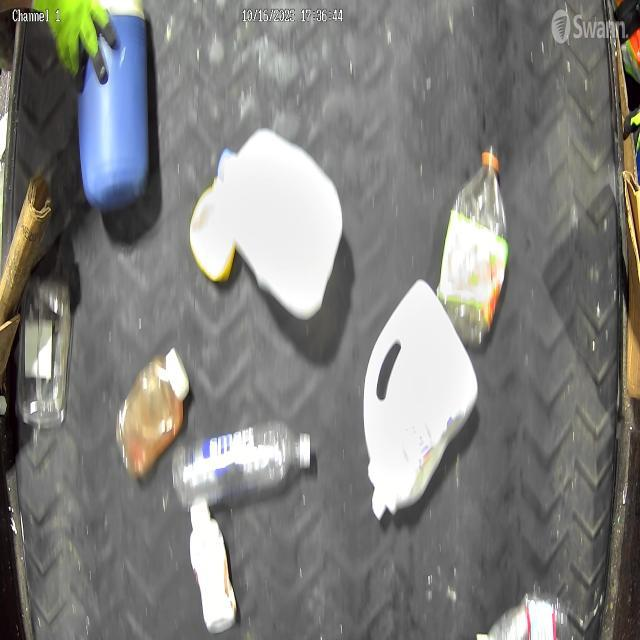milk_jug: (360, 282, 480, 520), (206, 128, 342, 310)
plastic_bottle: (170, 427, 310, 515)
